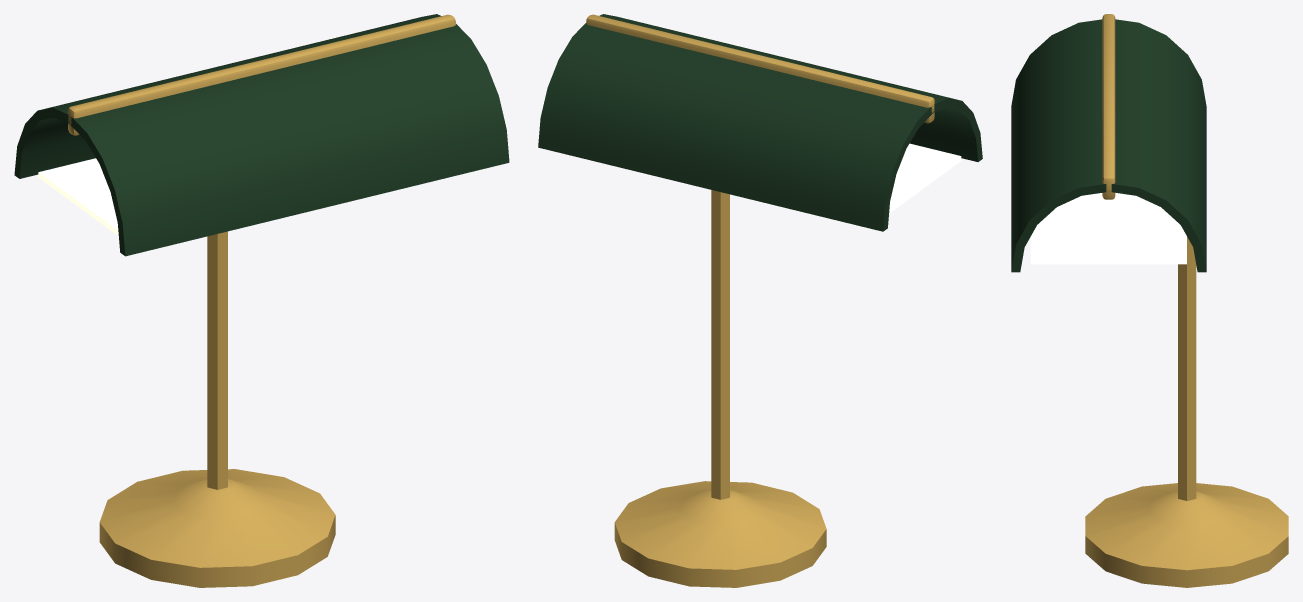
The model's file is desk_lamp.glb.
3 renders of one model, left to right at view 1: azimuth 30°, elevation 25°; view 2: azimuth 150°, elevation 25°; view 3: azimuth 270°, elevation 25°, orthographic. The views are drawn at different scales.
Parts seen in each view (by area): view 1: desk_lamp; view 2: desk_lamp; view 3: desk_lamp.
Boxes of the visible parts, x1,y1,x2,y2 form: desk_lamp: [14, 14, 509, 587]; desk_lamp: [538, 14, 982, 587]; desk_lamp: [1011, 14, 1288, 587].
Bounding box in the file's own units: 0.3 × 0.38 × 0.213.
